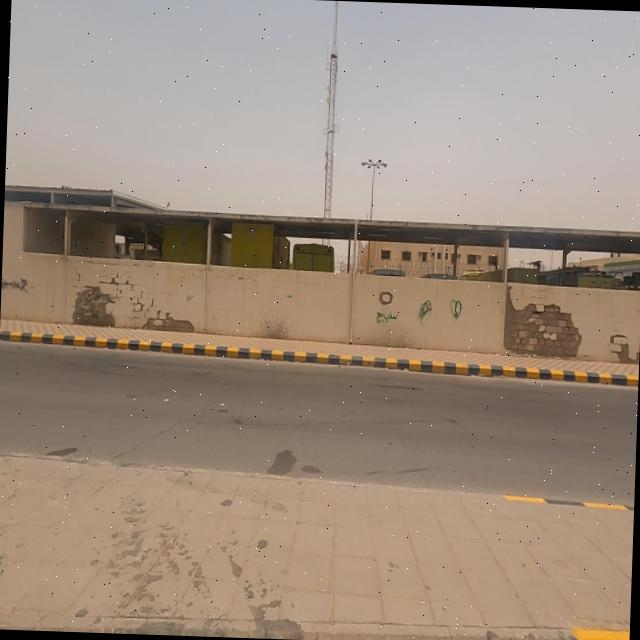Graffiti: (376, 311, 400, 326), (450, 300, 462, 323), (420, 299, 431, 322)
